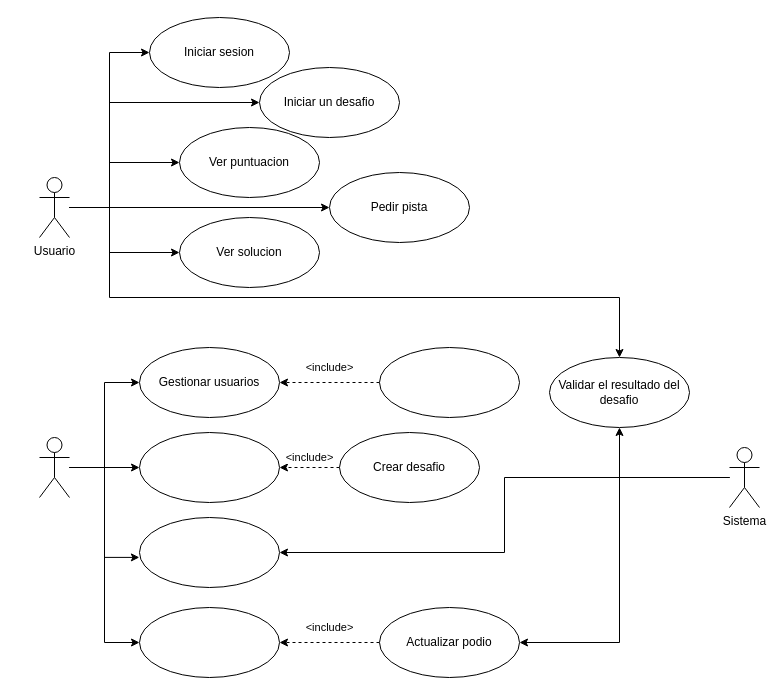
Some shapes in this 783 by 695 pixel diagram are drawn without their labels. The centre of each missing label's shape, as x and y in pixels:
Administrador: [54,467]
Borrar usuario: [449,382]
Gestionar desafios: [209,467]
Gestionar podios: [209,642]
Resetear el sistema: [209,552]
